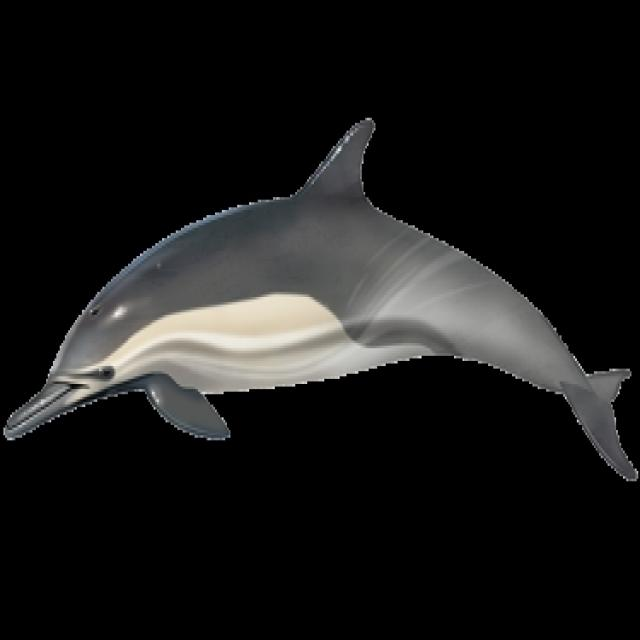penguin: (3, 118, 637, 476)
